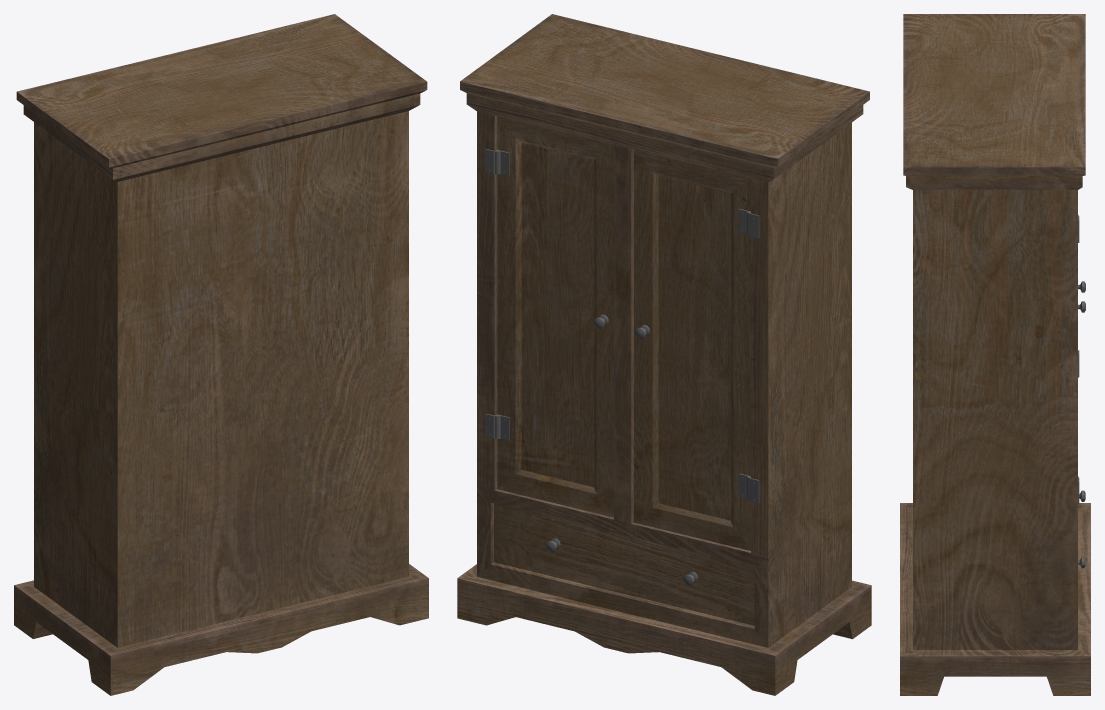
Rendered from old_closet.glb.
3 views of the same model, side by side, from view 1: azimuth 30°, elevation 25°; view 2: azimuth 150°, elevation 25°; view 3: azimuth 270°, elevation 25° (orthographic).
Parts seen in each view (by area): view 1: Closet; view 2: Closet; view 3: Closet.
Boxes of the visible parts, box(x1,y1,x2,y2) form: Closet: box(14, 14, 428, 695); Closet: box(457, 14, 871, 695); Closet: box(900, 14, 1090, 695).
Bounding box in the file's own units: 1.32 × 2.12 × 0.6924.
1 material, 1 textured.
